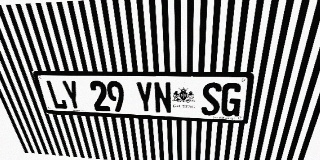2: (89, 81, 110, 111)
9: (105, 81, 127, 112)
G: (220, 83, 243, 117)
L: (45, 80, 68, 109)
N: (153, 82, 172, 114)
S: (201, 82, 222, 116)
Y: (60, 80, 83, 110), (135, 81, 155, 113)
